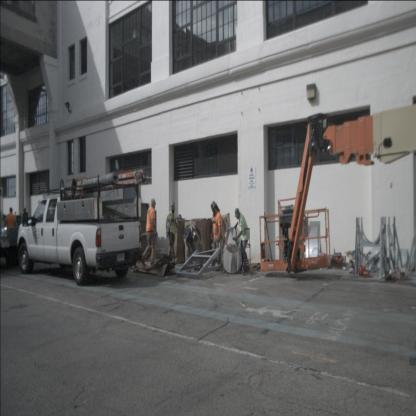human-pedestrian-adult: (5, 206, 17, 250), (22, 208, 29, 243)
vehicle-truck: (17, 192, 142, 286)
